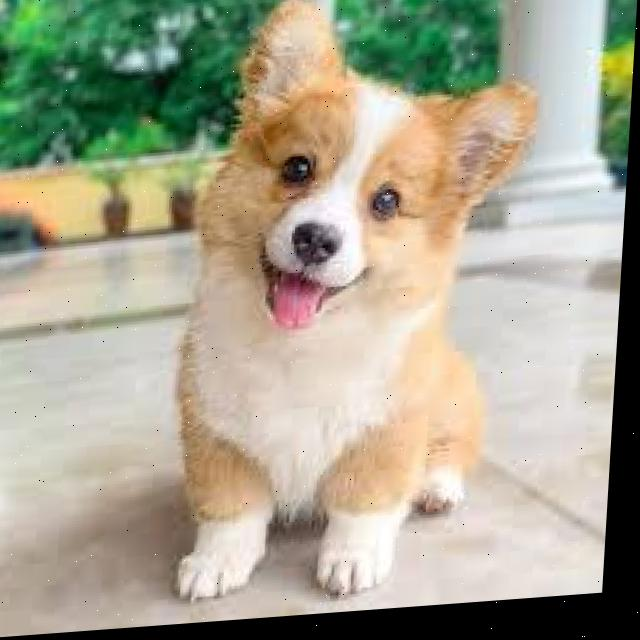CORGI: (142, 0, 532, 613)
